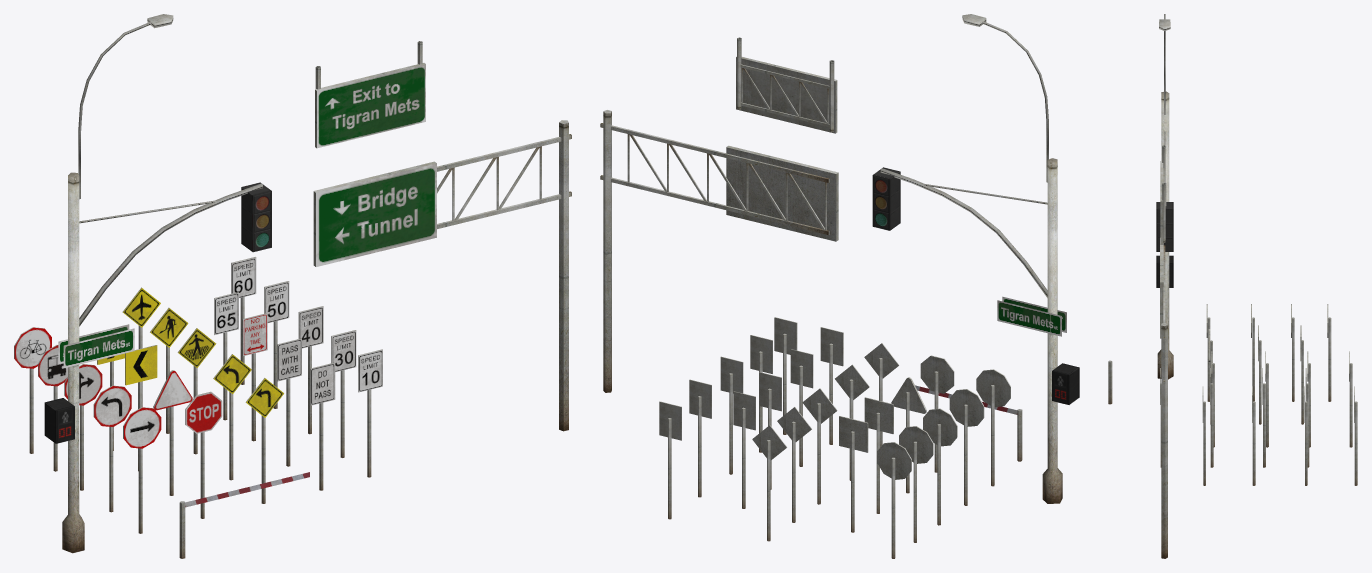
File: signs_pack.fbx
3 views of the same model, side by side, from view 1: azimuth 30°, elevation 25°; view 2: azimuth 150°, elevation 25°; view 3: azimuth 270°, elevation 25° (orthographic). The views are drawn at different scales.
Parts seen in each view (by area): view 1: Cube.002, Cylinder, Cube.000, Circle.000, Circle.002, Cylinder.001, Circle.004, Plane.006, Plane.007, Plane.001, Plane.000, Plane.008 (+14 smaller); view 2: Cube.002, Cylinder, Cube.000, Circle.004, Circle.000, Circle.002, Circle.001, Circle.003, Plane.010, Cylinder.001, Plane.009, Plane.002 (+15 smaller); view 3: Cylinder, Cube.002, Cube.000, Circle.004, Plane.007, Plane.004, Plane.002, Cylinder.006, Plane.005.
Boxes of the visible parts, x1=… form: Cube.002: x1=313, y1=120, x2=571, y2=431; Cylinder: x1=44, y1=14, x2=271, y2=553; Cube.000: x1=315, y1=41, x2=425, y2=148; Circle.000: x1=93, y1=385, x2=131, y2=512; Circle.002: x1=123, y1=407, x2=161, y2=533; Cylinder.001: x1=185, y1=391, x2=222, y2=518; Circle.004: x1=14, y1=327, x2=51, y2=453; Plane.006: x1=310, y1=362, x2=335, y2=490; Plane.007: x1=277, y1=338, x2=301, y2=466; Plane.001: x1=358, y1=349, x2=382, y2=477; Plane.000: x1=331, y1=330, x2=356, y2=457; Plane.008: x1=242, y1=313, x2=267, y2=441; Cube.002: x1=600, y1=110, x2=838, y2=392; Cylinder: x1=872, y1=14, x2=1079, y2=503; Cube.000: x1=736, y1=37, x2=837, y2=133; Circle.004: x1=877, y1=442, x2=911, y2=558; Circle.000: x1=949, y1=389, x2=984, y2=505; Circle.002: x1=976, y1=369, x2=1010, y2=486; Circle.001: x1=923, y1=408, x2=957, y2=525; Circle.003: x1=899, y1=426, x2=933, y2=542; Plane.010: x1=839, y1=416, x2=868, y2=532; Cylinder.001: x1=920, y1=355, x2=954, y2=472; Plane.009: x1=864, y1=397, x2=893, y2=513; Plane.002: x1=720, y1=356, x2=743, y2=474; Cylinder: x1=1156, y1=14, x2=1173, y2=379; Cube.002: x1=1160, y1=238, x2=1167, y2=558; Cube.000: x1=1160, y1=145, x2=1165, y2=244; Circle.004: x1=1327, y1=304, x2=1331, y2=401; Plane.007: x1=1210, y1=368, x2=1213, y2=467; Plane.004: x1=1354, y1=386, x2=1357, y2=485; Plane.002: x1=1252, y1=386, x2=1255, y2=485; Cylinder.006: x1=1349, y1=351, x2=1352, y2=447; Plane.005: x1=1305, y1=368, x2=1309, y2=467.
Bounding box in the file's own units: 2124 × 1986 × 1161.
